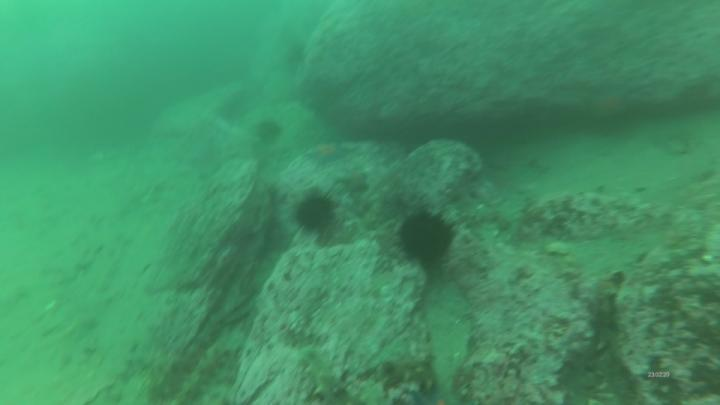echinus: (404, 212, 453, 260), (300, 198, 334, 230), (256, 124, 280, 142)
holothurian: (171, 348, 235, 405), (299, 349, 337, 399)
starfish: (307, 144, 352, 165)
